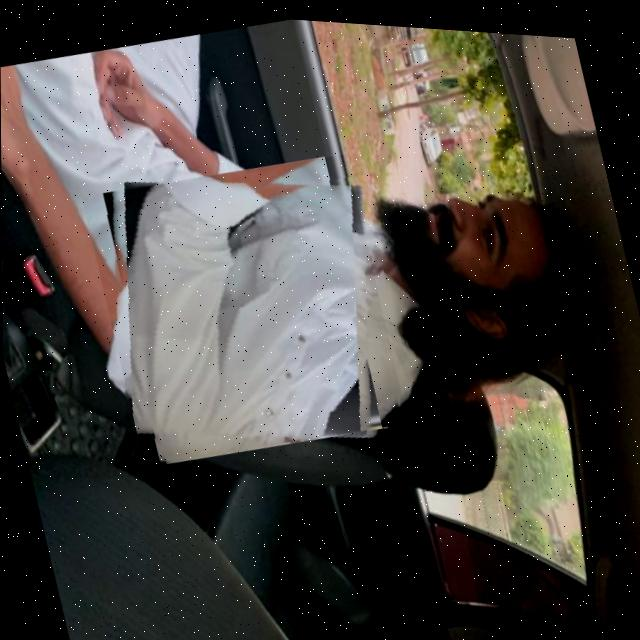no-seatbelt: (81, 134, 408, 477)
